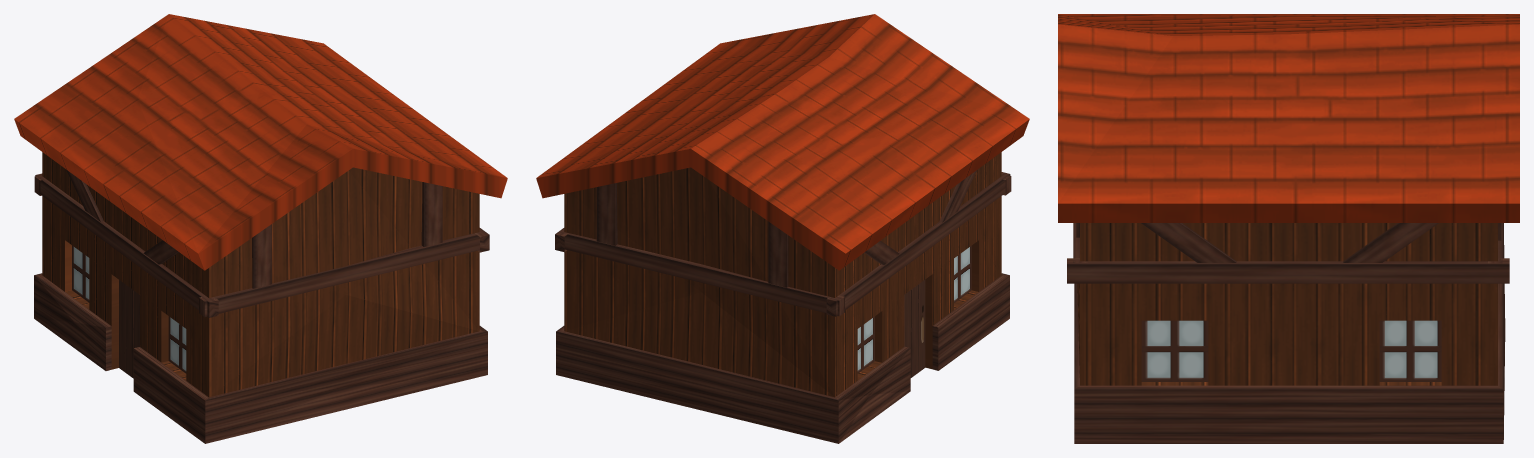
File: co_Building06.fbx
3 renders of one model, left to right at view 1: azimuth 30°, elevation 25°; view 2: azimuth 150°, elevation 25°; view 3: azimuth 270°, elevation 25°, orthographic. The views are drawn at different scales.
Parts seen in each view (by area): view 1: Building06; view 2: Building06; view 3: Building06.
Part boxes in pixels (x1,y1,x2,y2): Building06: [14, 14, 507, 443]; Building06: [536, 14, 1029, 443]; Building06: [1058, 14, 1519, 443].
Bounding box in the file's own units: 2886 × 2364 × 2973.
